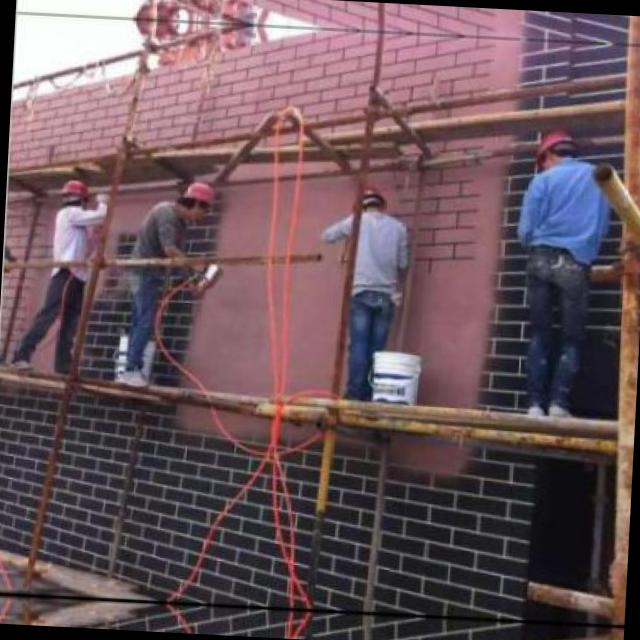helmet: (532, 124, 580, 171), (176, 180, 214, 225), (346, 182, 389, 215), (56, 176, 88, 213)
